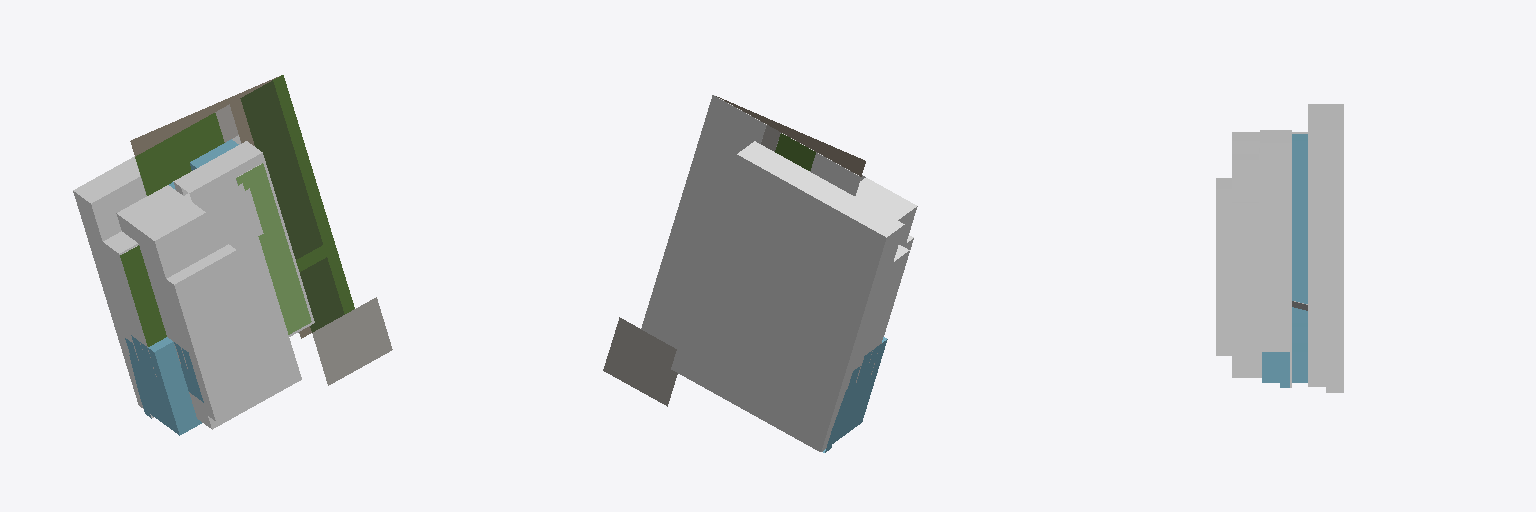
The model's file is opt1-5.obj.
3 renders of one model, left to right at view 1: azimuth 30°, elevation 25°; view 2: azimuth 150°, elevation 25°; view 3: azimuth 270°, elevation 25°, orthographic.
Bounding box in the file's own units: 347 × 355 × 128.